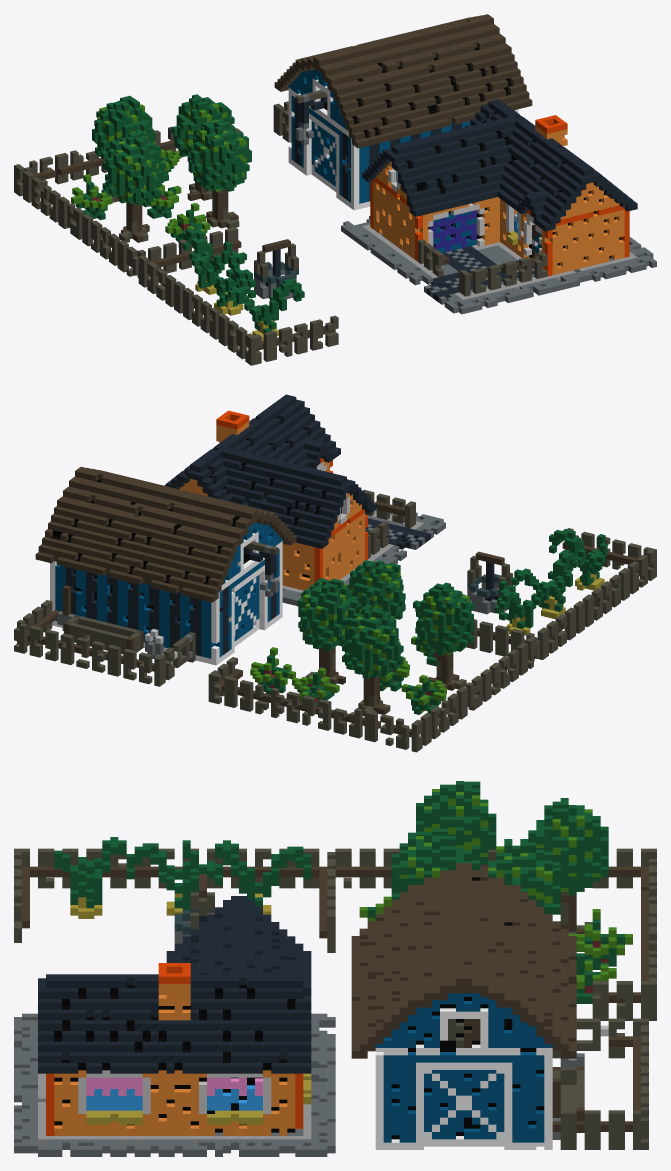
The model's file is farm_2_damaged.obj.
3 renders of one model, top to bottom at view 1: azimuth 30°, elevation 25°; view 2: azimuth 150°, elevation 25°; view 3: azimuth 270°, elevation 25°, orthographic. The views are drawn at different scales.
Bounding box in the file's own units: 8 × 2.4 × 8.
Materials: 1 (1 with a texture image).
